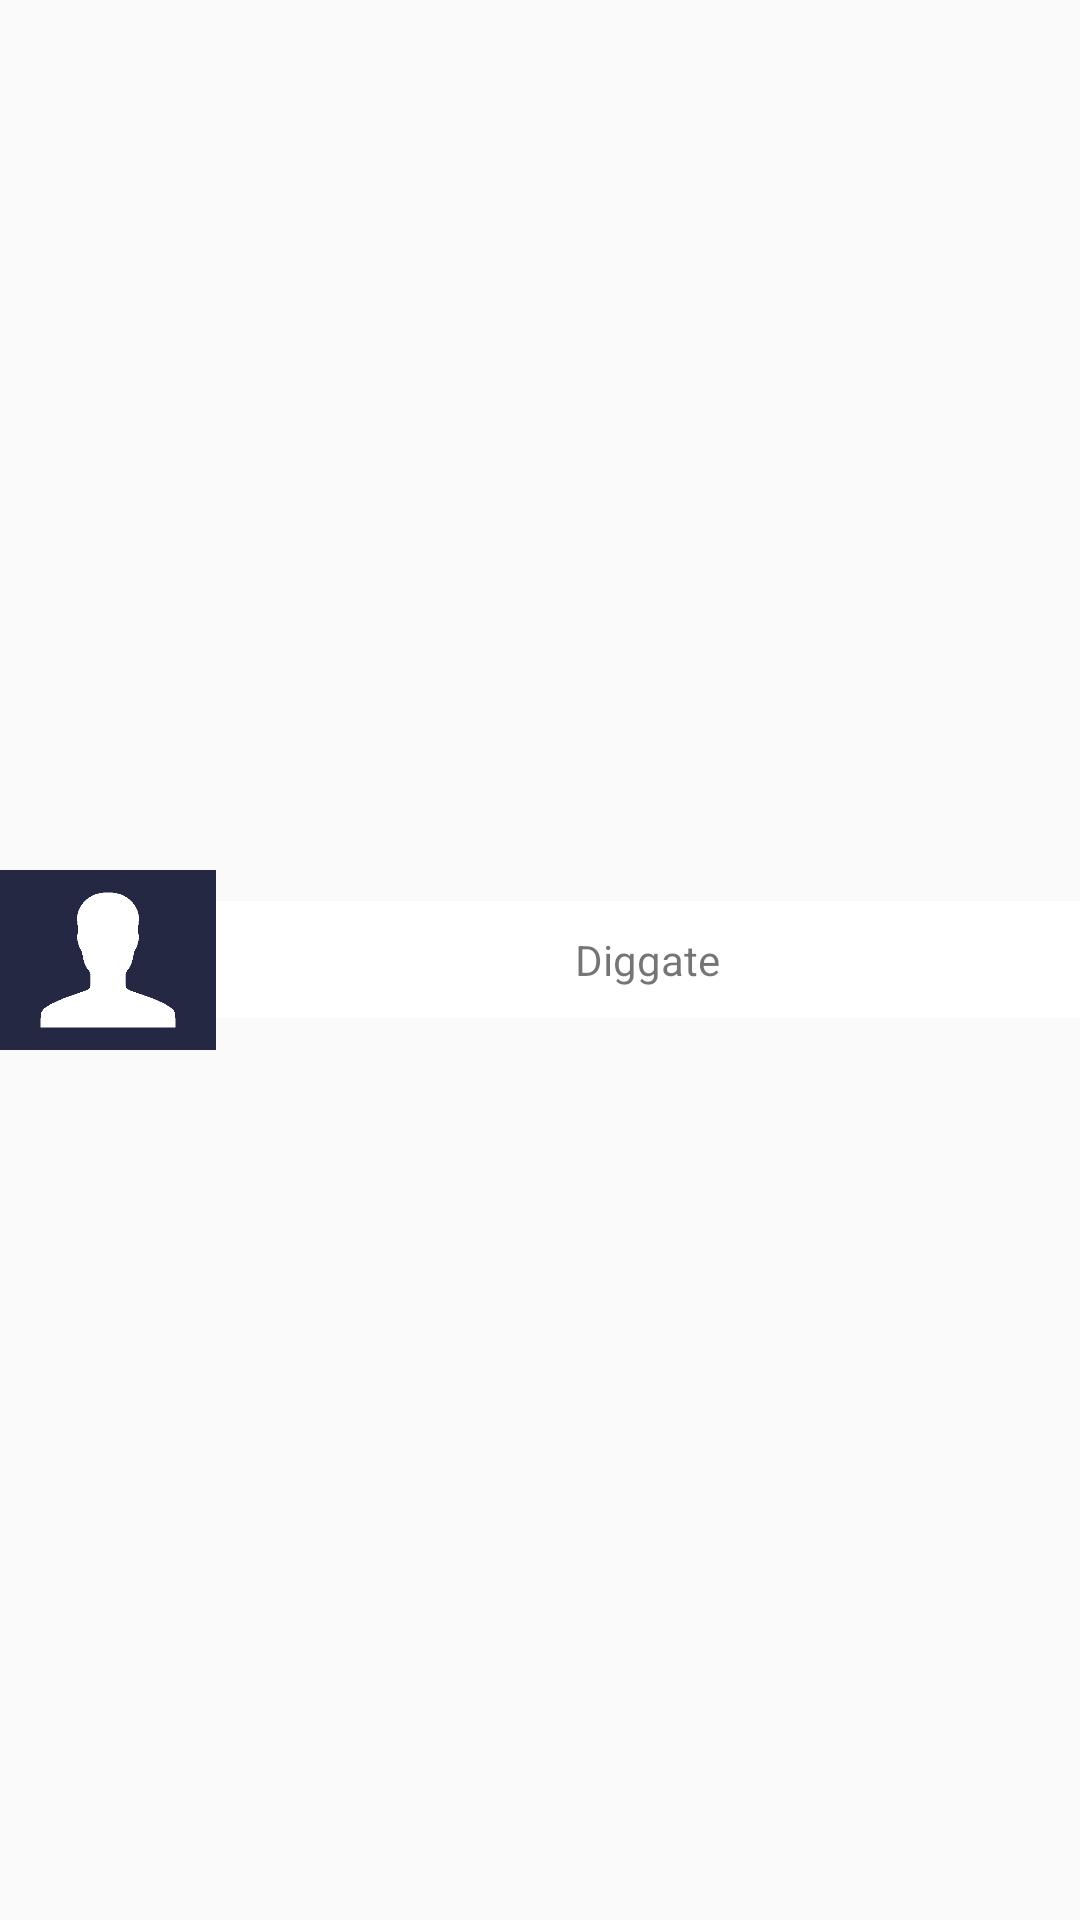

Icons on this 1080 x 1920 Android screen, each with the point to tap as [x,y]:
user: [108,960]
